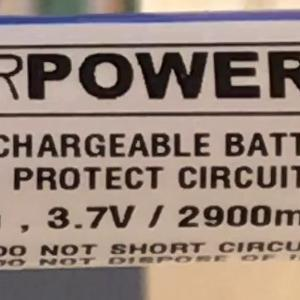3.7V: (38, 195, 142, 239)
